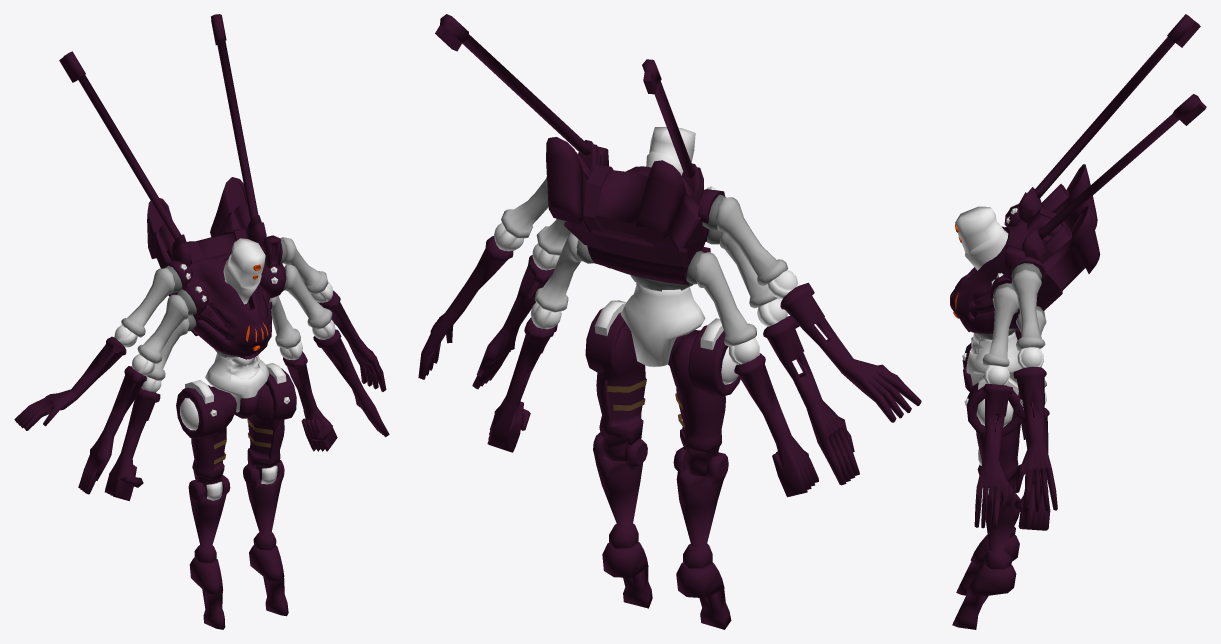
Rendered from Dusk Wing joined.fbx.
3 views of the same model, side by side, from view 1: azimuth 30°, elevation 25°; view 2: azimuth 150°, elevation 25°; view 3: azimuth 270°, elevation 25° (orthographic). The views are drawn at different scales.
Visible parts, largest first — view 1: Hinge Mat; view 2: Hinge Mat; view 3: Hinge Mat.
Boxes of the visible parts, x1,y1,x2,y2 form: Hinge Mat: [14, 14, 389, 629]; Hinge Mat: [418, 14, 921, 629]; Hinge Mat: [950, 14, 1206, 629].
Size of the model in its own units: 3.77 by 5.02 by 2.11.
